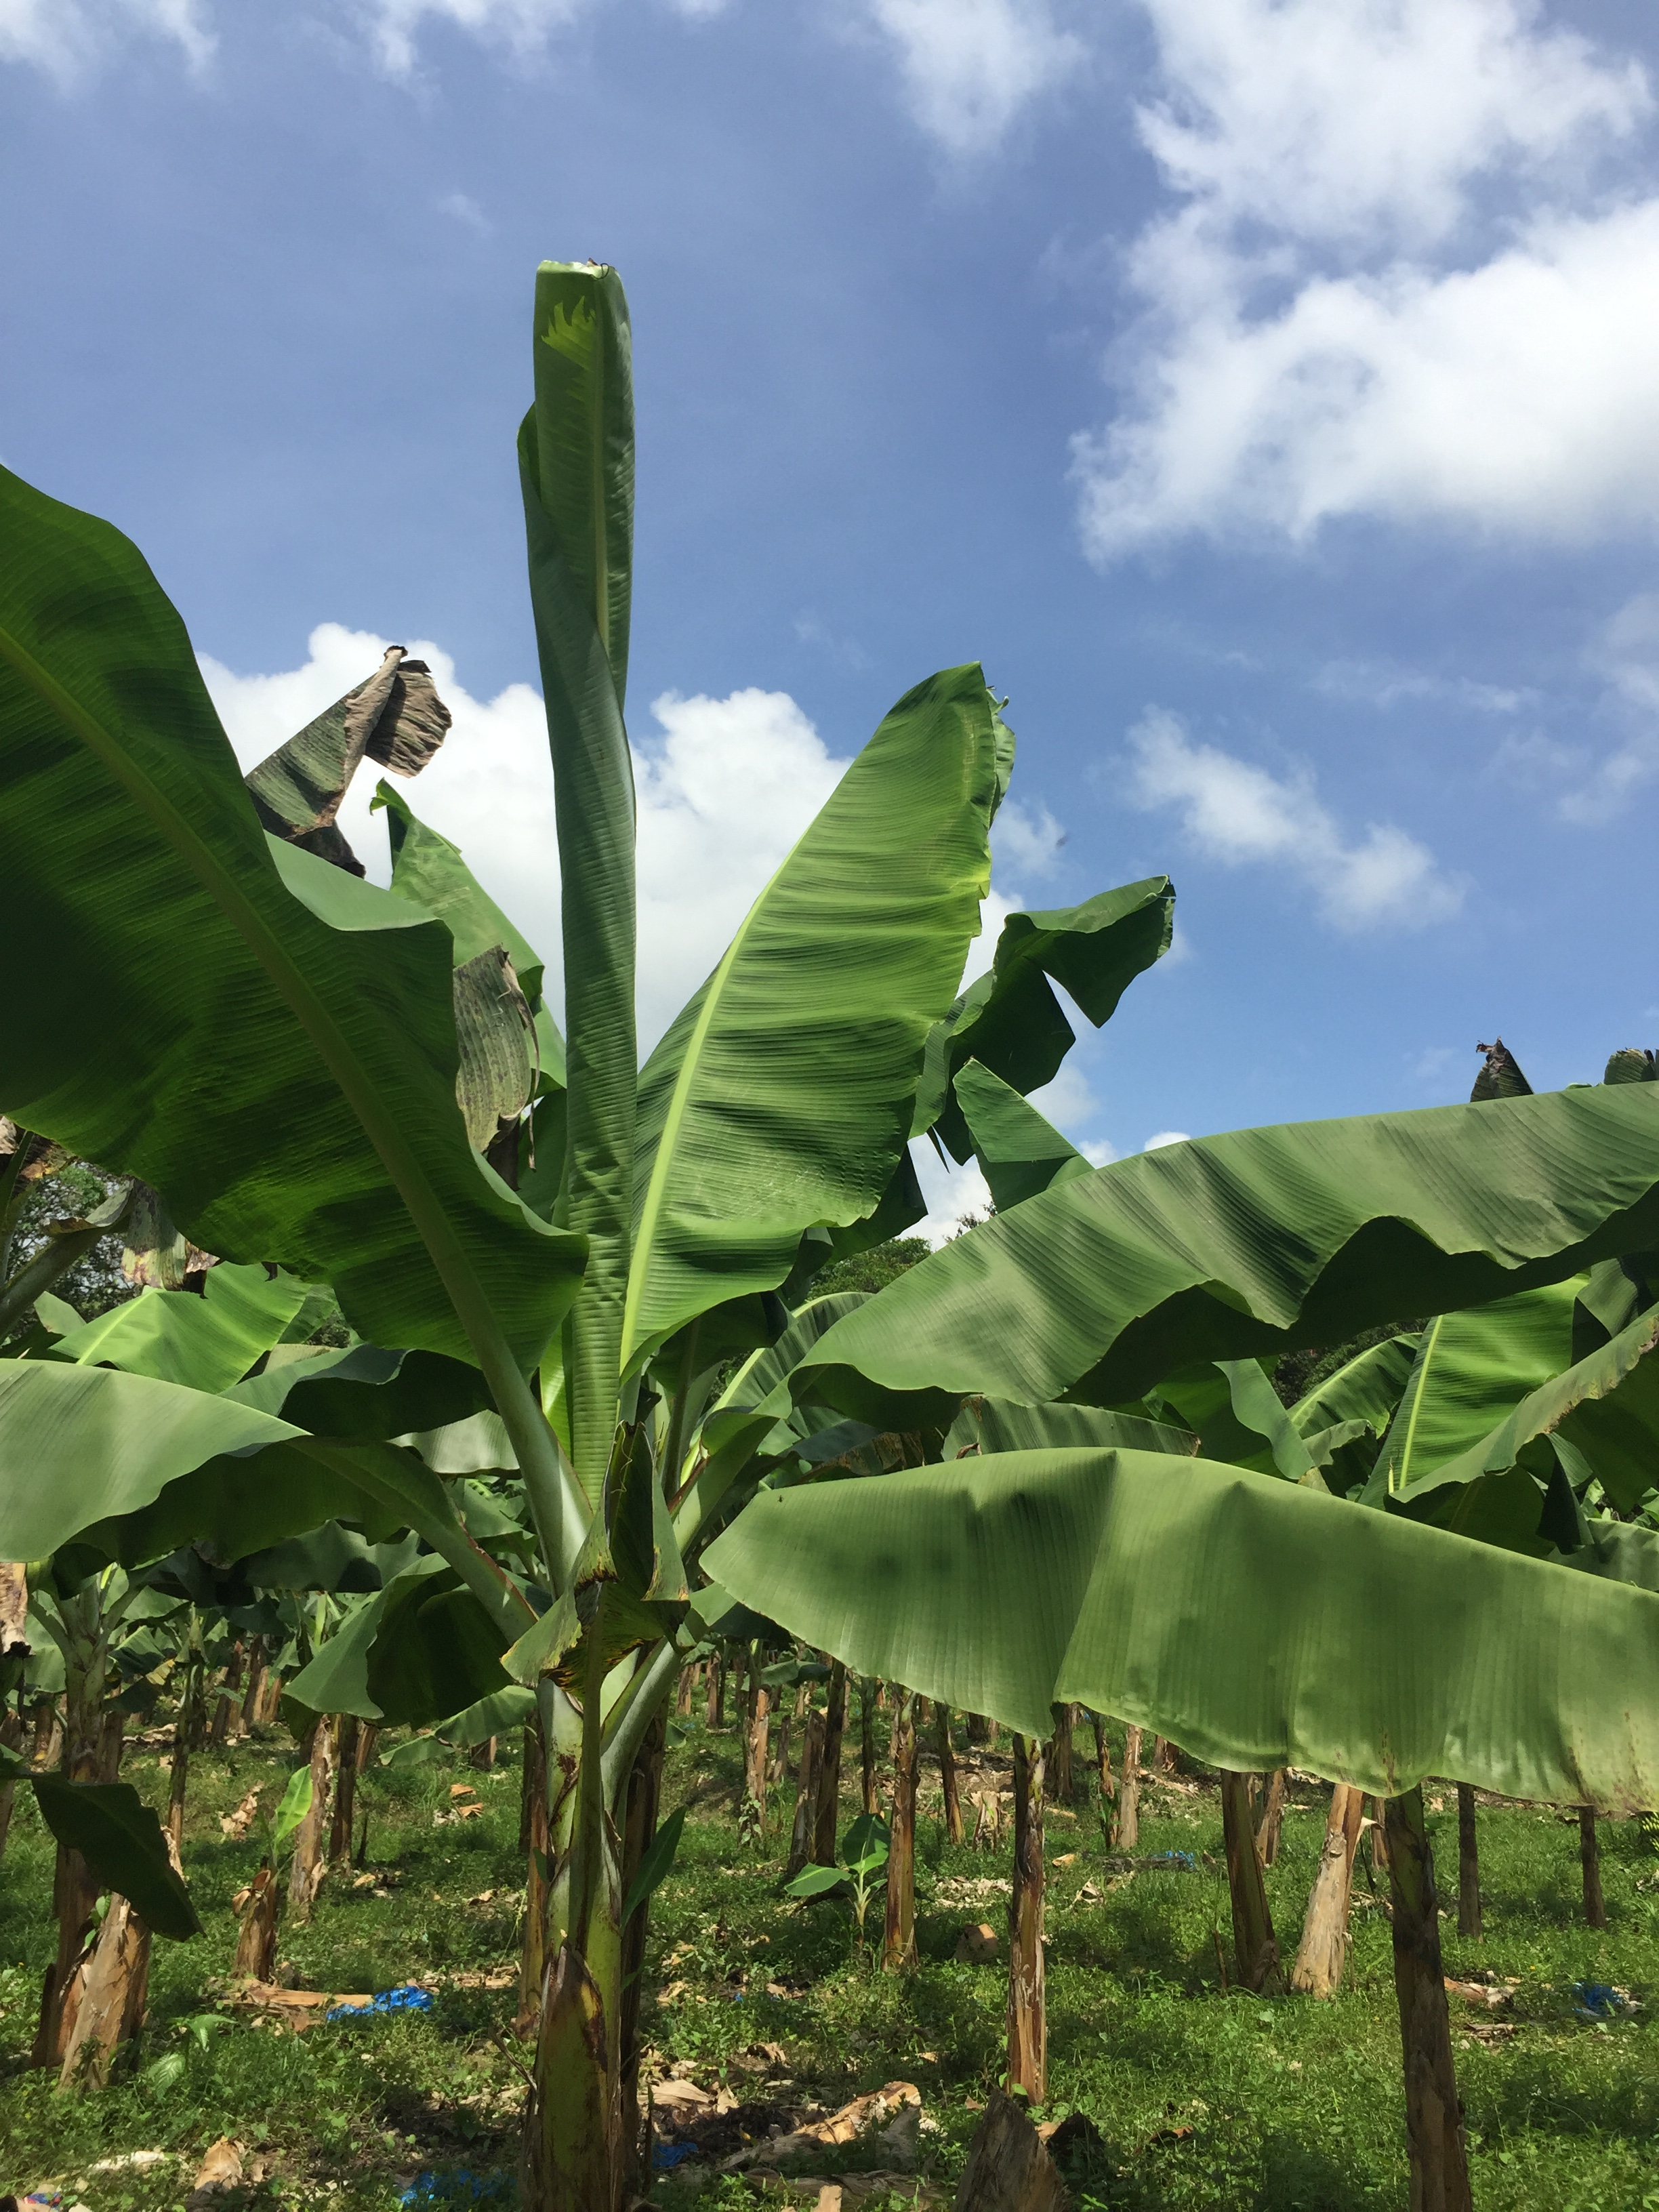candleleafs: (514, 258, 638, 1505)
